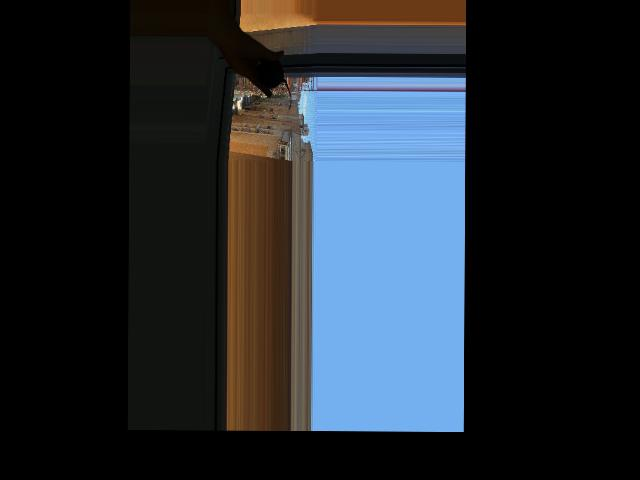beet: (257, 60, 291, 111)
